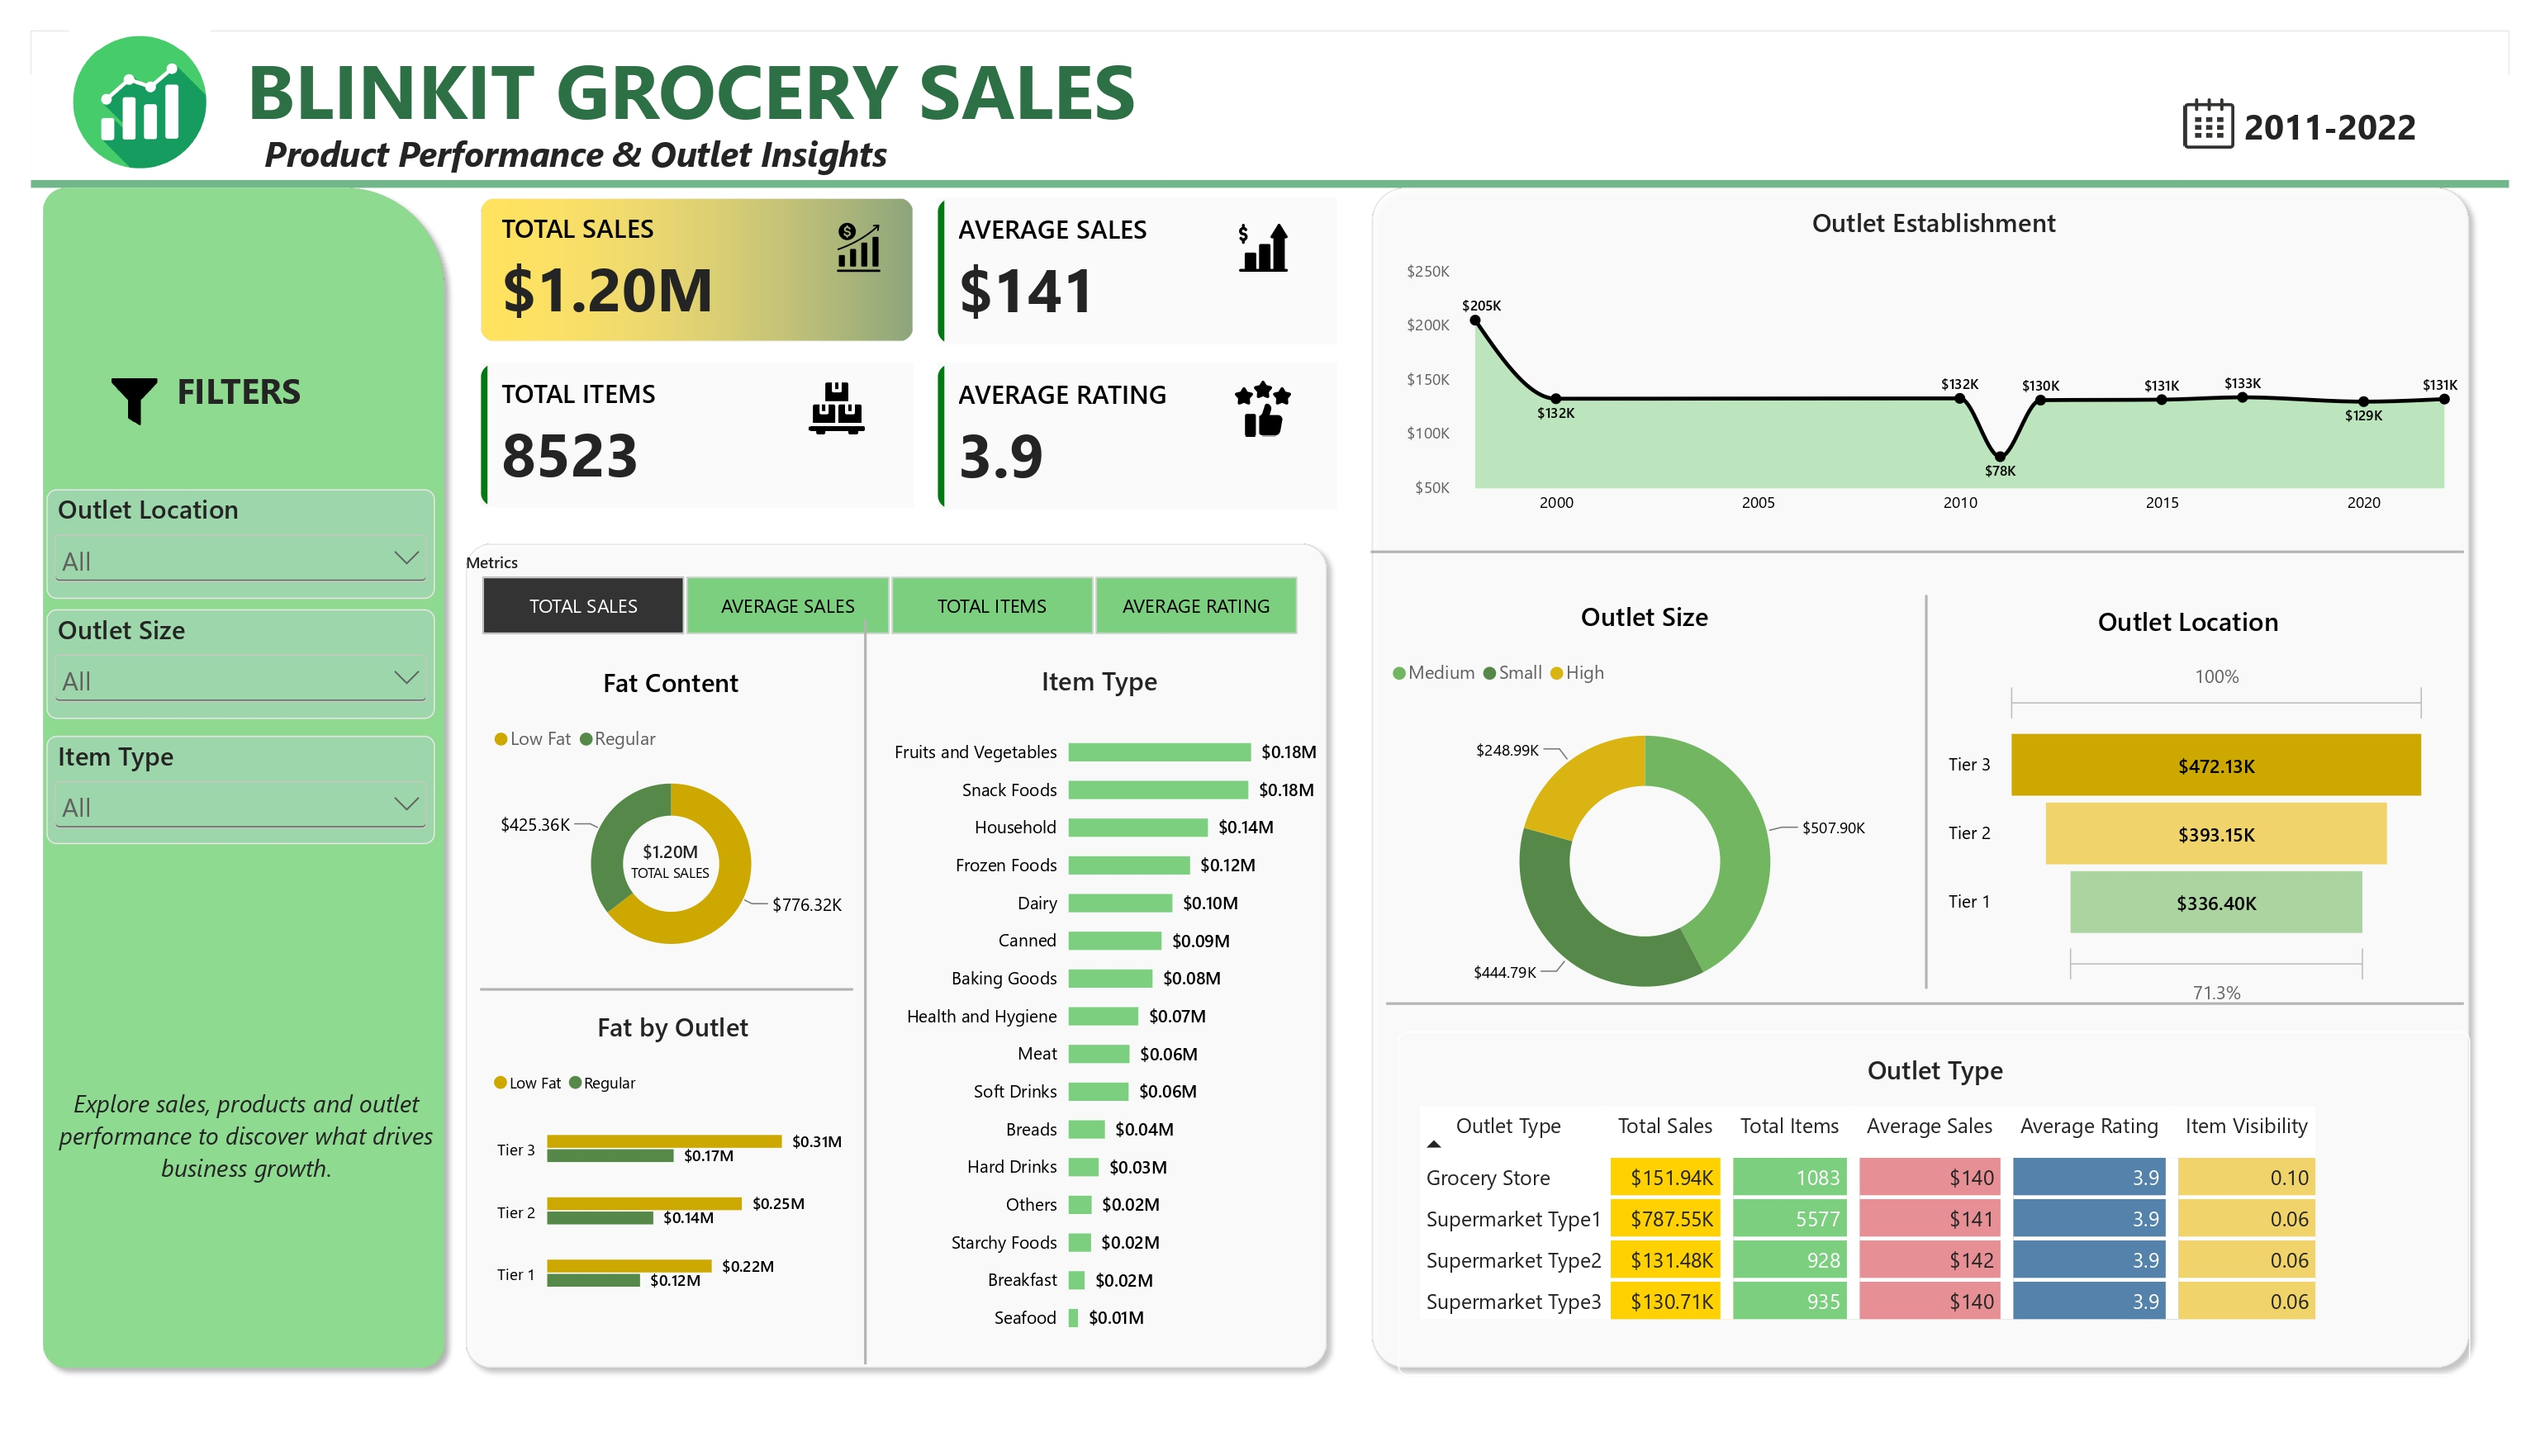

The dashboard page shown, as its layout file describes it:
{"tool":"powerbi","page":{"name":"Duplicate of Page 1","canvas":[1920,1080],"ordinal":0},"visuals":[{"type":"shape","box":[327.5,388.5,685,656.5],"z":0,"group":"g1"},{"type":"shape","box":[0,112.1,328.8,932.9],"z":1000,"group":"g1"},{"type":"cardVisual","title":"Total Sales","fields":{"Data":["Measures (2).Total Sales"]},"box":[348,129.4,336,112.3],"z":2000,"group":"g1"},{"type":"cardVisual","title":"Average Rating","fields":{"Data":["Measures (2).Average Rating"]},"box":[702,257.2,310,114],"z":3000,"group":"g1"},{"type":"cardVisual","title":"Total Items","fields":{"Data":["Measures (2).Total Items"]},"box":[348,257.2,336,112.3],"z":4000,"group":"g1"},{"type":"cardVisual","title":"Average Sales","fields":{"Data":["Measures (2).Average Sales"]},"box":[702,129.4,310,114],"z":5000,"group":"g1"},{"type":"donutChart","title":" Fat Content","fields":{"Category":["BlinkIT Grocery Data.Item Fat Content"],"Y":["Measures (2).TOTAL SALES"]},"box":[341.9,475.7,307.7,267.4],"z":6000,"group":"g1"},{"type":"image","box":[608,148.4,66.8,39.2],"z":7000,"group":"g1"},{"type":"image","box":[926,271,57.3,43.3],"z":8000,"group":"g1"},{"type":"image","box":[910,148.4,90,39.7],"z":9000,"group":"g1"},{"type":"image","box":[580,271,88.3,43.3],"z":10000,"group":"g1"},{"type":"slicer","fields":{"Values":["Metrics.Metrics"]},"box":[329.3,402.7,670.4,65.9],"z":11000,"group":"g1"},{"type":"cardVisual","fields":{"Data":["Measures (2).TOTAL SALES"]},"box":[428.2,594.9,136,96.9],"z":12000,"group":"g1"},{"type":"clusteredBarChart","title":"Fat by Outlet","fields":{"Category":["BlinkIT Grocery Data.Outlet Location Type"],"Series":["BlinkIT Grocery Data.Item Fat Content"],"Y":["Measures (2).TOTAL SALES"]},"box":[341.9,743.2,311.5,267.4],"z":13000,"group":"g1"},{"type":"shape","box":[348.4,677.7,288.7,129.6],"z":14000,"group":"g1"},{"type":"shape","box":[590.3,456.2,112.9,576.8],"z":15000,"group":"g1"},{"type":"clusteredBarChart","title":" Item Type","fields":{"Category":["BlinkIT Grocery Data.Item Type"],"Y":["Measures (2).TOTAL SALES"]},"box":[642.5,474.9,370,557.1],"z":16000,"group":"g1"},{"type":"shape","box":[1030,112.1,868,932.9],"z":17000,"group":"g1"},{"type":"lineChart","title":"Outlet Establishment ","fields":{"Category":["BlinkIT Grocery Data.Outlet Establishment Year"],"Y":["Measures (2).TOTAL SALES"]},"box":[1049.8,120.5,849.4,273.4],"z":18000,"group":"g1"},{"type":"shape","box":[0,90.7,1920,54.9],"z":19000},{"type":"shape","box":[1037.5,338.8,847.5,129.6],"z":19000,"group":"g1"},{"type":"donutChart","title":"Outlet Size","fields":{"Category":["BlinkIT Grocery Data.Outlet Size"],"Y":["Measures (2).TOTAL SALES"]},"box":[1037.9,425.4,424.7,364.8],"z":20000,"group":"g1"},{"type":"funnel","title":"Outlet Location","fields":{"Category":["BlinkIT Grocery Data.Outlet Location Type"],"Y":["Measures (2).TOTAL SALES"]},"box":[1470,429.5,402.5,343.4],"z":21000,"group":"g1"},{"type":"shape","box":[1412.5,437.6,112.5,304.5],"z":22000,"group":"g1"},{"type":"shape","box":[1049.8,688,835.1,131],"z":23000,"group":"g1"},{"type":"pivotTable","title":"Outlet Type","fields":{"Rows":["BlinkIT Grocery Data.Outlet Type"],"Values":["Measures (2).TOTAL SALES","Measures (2).TOTAL ITEMS","Measures (2).AVERAGE SALES","Measures (2).AVERAGE RATING","Avg(BlinkIT Grocery Data.Item Visibility)"]},"box":[1059.3,775.4,830.3,266.5],"z":24000,"group":"g1"},{"type":"slicer","fields":{"Values":["BlinkIT Grocery Data.Outlet Location Type"]},"box":[11.9,355.1,300.6,84.5],"z":25000,"group":"g1"},{"type":"slicer","fields":{"Values":["BlinkIT Grocery Data.Outlet Size"]},"box":[11.9,448.2,300.6,84.5],"z":26000,"group":"g1"},{"type":"slicer","fields":{"Values":["BlinkIT Grocery Data.Item Type"]},"box":[11.9,546,300.6,84.5],"z":27000,"group":"g1"},{"type":"group","id":"g1","title":"Group 1","box":[0,112.1,1899.2,932.9],"z":28001},{"type":"textbox","box":[167,4.8,932.9,140.8],"z":28002},{"type":"textbox","box":[181.3,76.3,484.3,66.8],"z":28003},{"type":"image","box":[0,0,167,109.8],"z":28004},{"type":"image","box":[1632,52.5,109.8,38.2],"z":28005},{"type":"textbox","box":[1715.5,54.9,157.5,38.2],"z":28006},{"type":"textbox","box":[16.7,818.4,300.6,128.8],"z":28007},{"type":"image","box":[59.6,260.1,40.6,52.5],"z":28008},{"type":"textbox","box":[59.6,260.1,202.8,66.8],"z":28009}]}

Visuals, with their boxes on the page's 1920x1080 design canvas (x1, y1, x2, y2). These are canvas units, not pixel positions in the 2540x1456 screenshot, which may show the page scaled, cropped or inside an application window:
shape: (x1=328, y1=388, x2=1012, y2=1045)
shape: (x1=0, y1=112, x2=329, y2=1045)
"Total Sales" cardVisual: (x1=348, y1=129, x2=684, y2=242)
"Average Rating" cardVisual: (x1=702, y1=257, x2=1012, y2=371)
"Total Items" cardVisual: (x1=348, y1=257, x2=684, y2=370)
"Average Sales" cardVisual: (x1=702, y1=129, x2=1012, y2=243)
" Fat Content" donutChart: (x1=342, y1=476, x2=650, y2=743)
image: (x1=608, y1=148, x2=675, y2=188)
image: (x1=926, y1=271, x2=983, y2=314)
image: (x1=910, y1=148, x2=1000, y2=188)
image: (x1=580, y1=271, x2=668, y2=314)
slicer - Metrics.Metrics: (x1=329, y1=403, x2=1000, y2=469)
cardVisual - Measures (2).TOTAL SALES: (x1=428, y1=595, x2=564, y2=692)
"Fat by Outlet" clusteredBarChart: (x1=342, y1=743, x2=653, y2=1011)
shape: (x1=348, y1=678, x2=637, y2=807)
shape: (x1=590, y1=456, x2=703, y2=1033)
" Item Type" clusteredBarChart: (x1=642, y1=475, x2=1012, y2=1032)
shape: (x1=1030, y1=112, x2=1898, y2=1045)
"Outlet Establishment " lineChart: (x1=1050, y1=120, x2=1899, y2=394)
shape: (x1=0, y1=91, x2=1920, y2=146)
shape: (x1=1038, y1=339, x2=1885, y2=468)
"Outlet Size" donutChart: (x1=1038, y1=425, x2=1463, y2=790)
"Outlet Location" funnel: (x1=1470, y1=430, x2=1872, y2=773)
shape: (x1=1412, y1=438, x2=1525, y2=742)
shape: (x1=1050, y1=688, x2=1885, y2=819)
"Outlet Type" pivotTable: (x1=1059, y1=775, x2=1890, y2=1042)
slicer - BlinkIT Grocery Data.Outlet Location Type: (x1=12, y1=355, x2=312, y2=440)
slicer - BlinkIT Grocery Data.Outlet Size: (x1=12, y1=448, x2=312, y2=533)
slicer - BlinkIT Grocery Data.Item Type: (x1=12, y1=546, x2=312, y2=630)
"Group 1" group: (x1=0, y1=112, x2=1899, y2=1045)
textbox: (x1=167, y1=5, x2=1100, y2=146)
textbox: (x1=181, y1=76, x2=666, y2=143)
image: (x1=0, y1=0, x2=167, y2=110)
image: (x1=1632, y1=52, x2=1742, y2=91)
textbox: (x1=1716, y1=55, x2=1873, y2=93)
textbox: (x1=17, y1=818, x2=317, y2=947)
image: (x1=60, y1=260, x2=100, y2=313)
textbox: (x1=60, y1=260, x2=262, y2=327)
